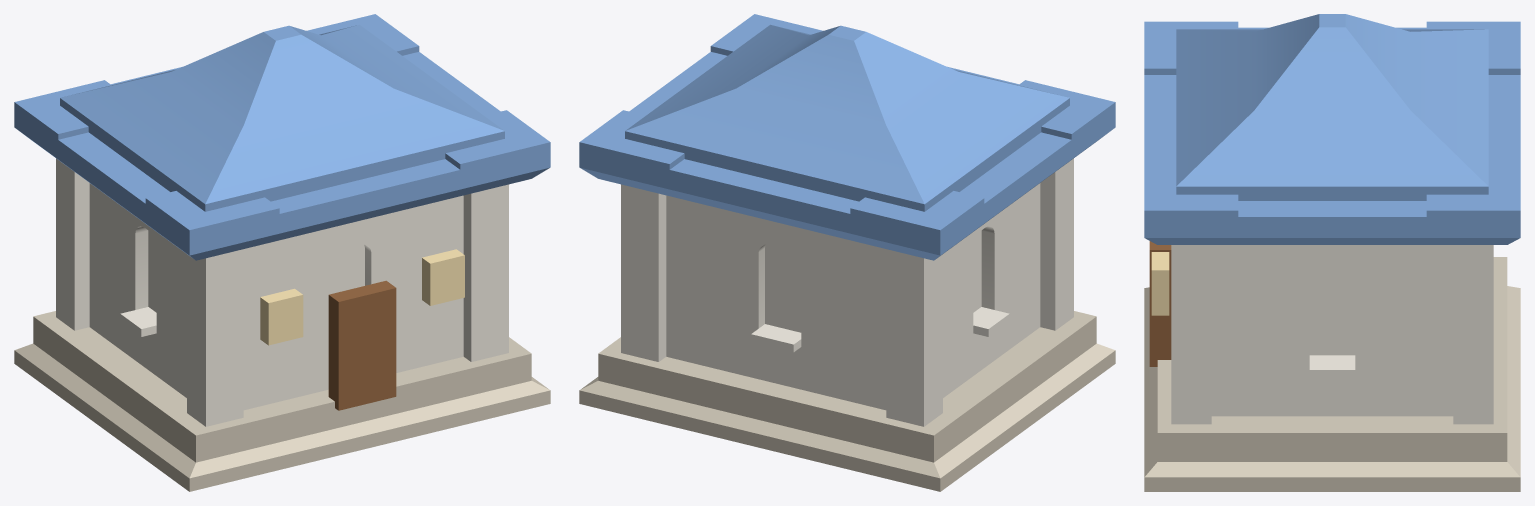
Rendered from european-house.glb.
3 renders of one model, left to right at view 1: azimuth 30°, elevation 25°; view 2: azimuth 150°, elevation 25°; view 3: azimuth 270°, elevation 25°, orthographic. The views are drawn at different scales.
Parts seen in each view (by area): view 1: body, glow; view 2: body; view 3: body, glow.
Part boxes in pixels (x1=…): body: x1=14, y1=14, x2=550, y2=491; glow: x1=260, y1=249, x2=464, y2=345; body: x1=579, y1=14, x2=1115, y2=491; body: x1=1144, y1=14, x2=1520, y2=491; glow: x1=1151, y1=252, x2=1169, y2=315.
Size of the model in its own units: 1.25 by 1.16 by 1.05.
